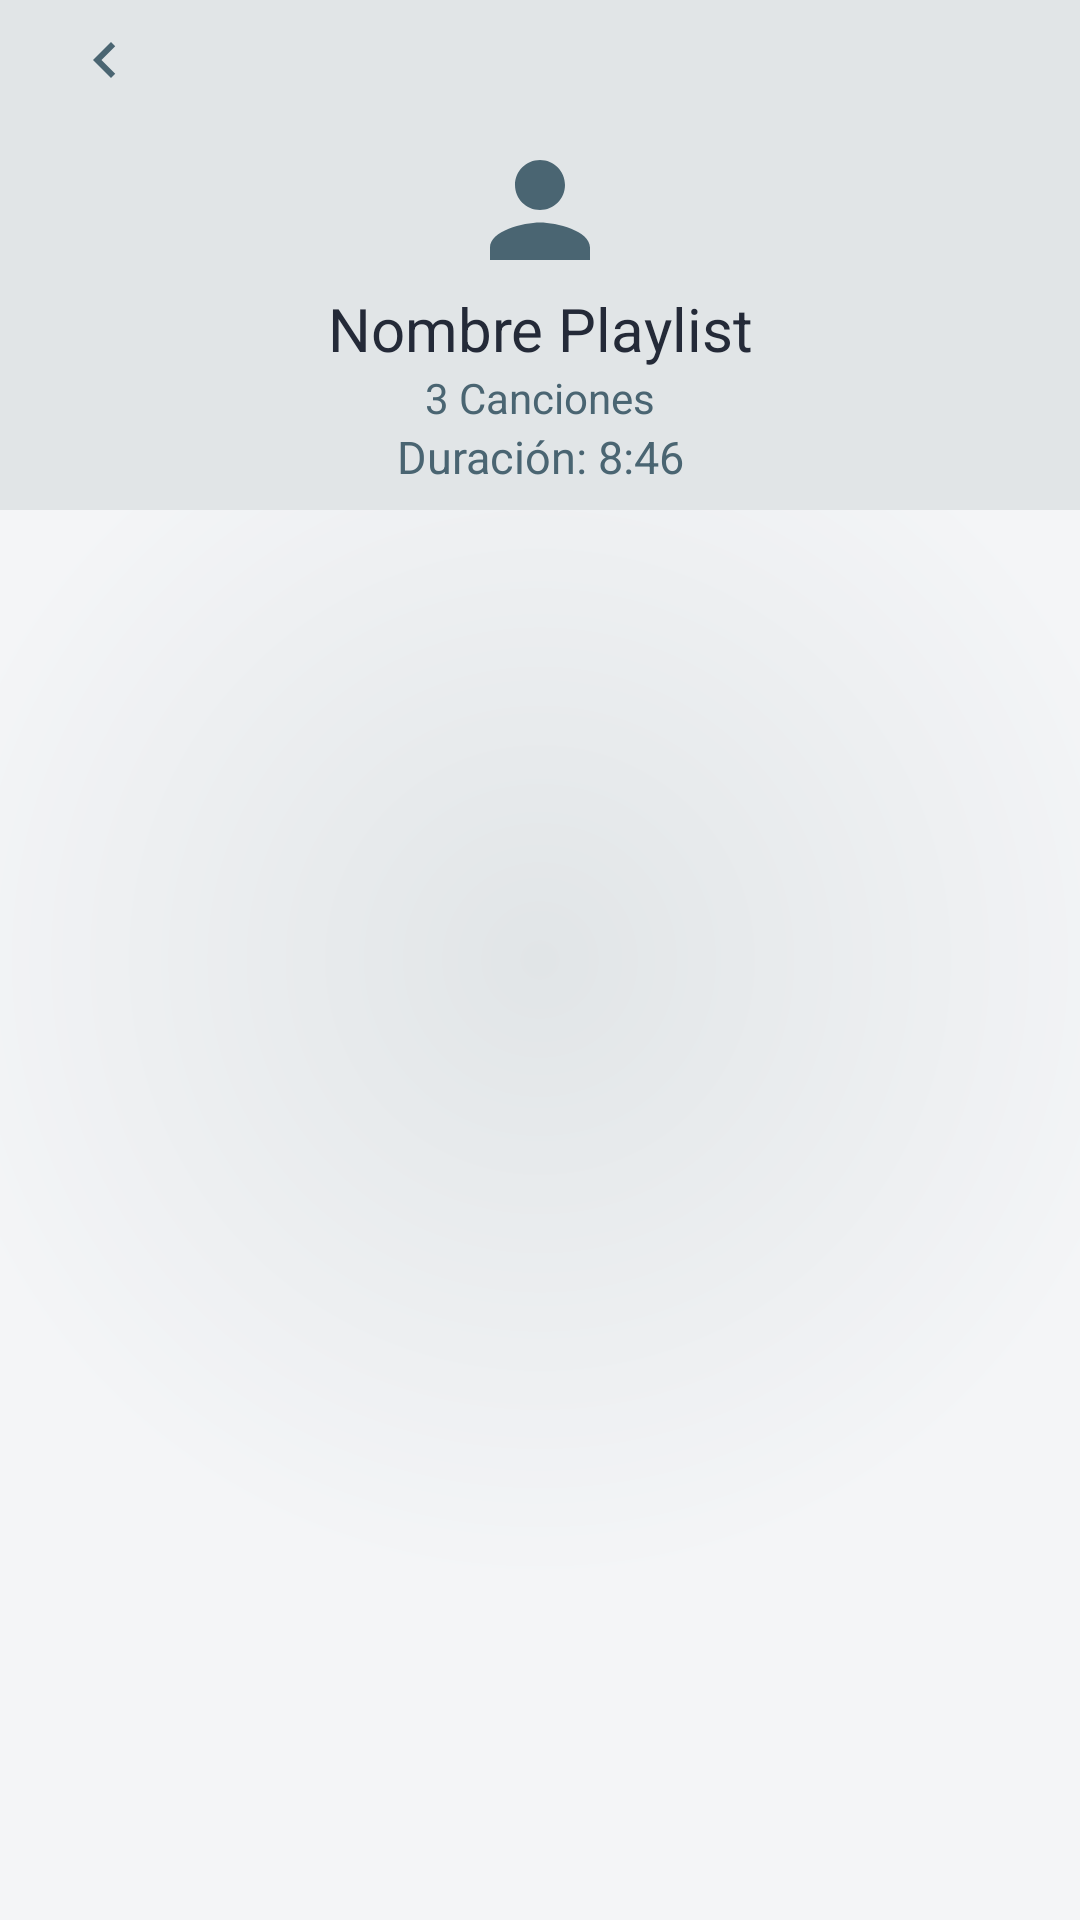

Screen size 1080px×1920px. Icon name, then its center in pixels as (x,y):
artistas: (540,210)
regresarplaylists: (104,60)
